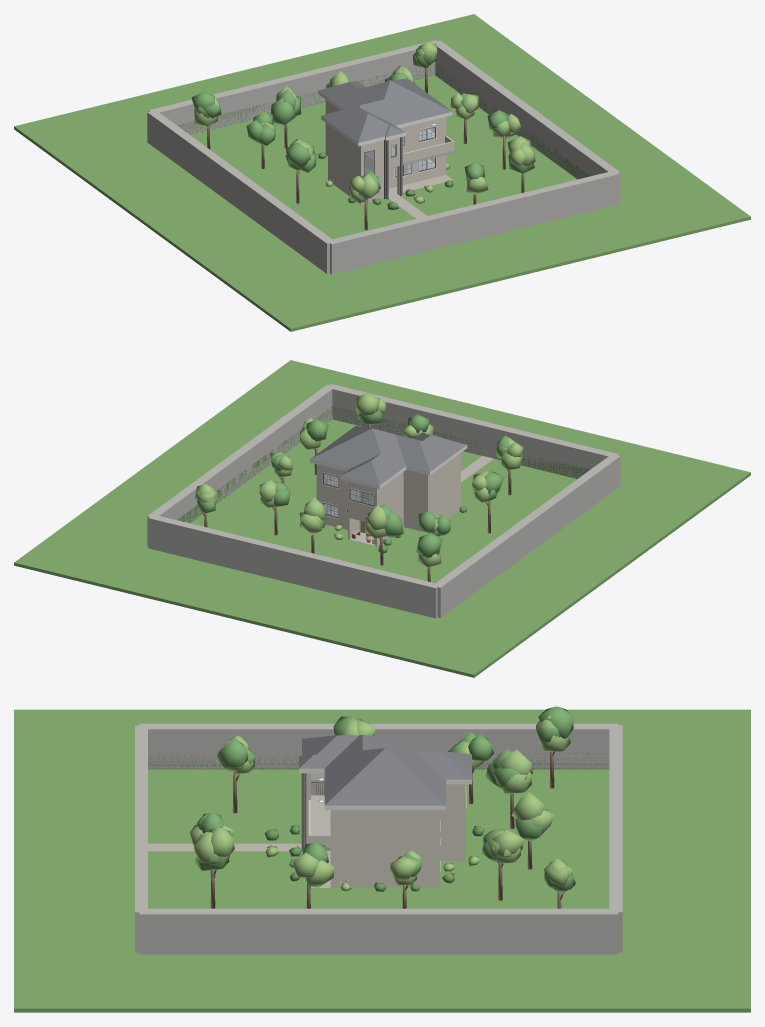
File: CasaVR_Casa.fbx
3 renders of one model, top to bottom at view 1: azimuth 30°, elevation 25°; view 2: azimuth 150°, elevation 25°; view 3: azimuth 270°, elevation 25°, orthographic. The views are drawn at different scales.
Visible parts, largest first — view 1: Terreno, COL_Limite_Sur, COL_Limite_Oeste, COL_Limite_Norte, COL_Limite_Este, Cubierta, Seto_Perimetral, Muro_222178, Muro_183780, Arbol_1_Copa, Arbol_8_Copa, Arbol_9_Copa (+11 smaller); view 2: Terreno, COL_Limite_Norte, COL_Limite_Sur, COL_Limite_Oeste, Cubierta, COL_Limite_Este, Seto_Perimetral, Muro_222178, Muro_221574, Arbol_1_Copa, Muro_183585, Arbol_9_Copa (+10 smaller); view 3: Terreno, COL_Limite_Este, COL_Limite_Oeste, Cubierta, Muro_183884, Muro_165480, COL_Limite_Norte, COL_Limite_Sur, Arbol_1_Copa, Arbol_8_Copa, Arbol_11_Copa, Arbol_2_Copa (+14 smaller).
Part boxes in pixels (bbox=[...]): Terreno: bbox=[14, 14, 750, 331]; COL_Limite_Sur: bbox=[327, 172, 619, 274]; COL_Limite_Oeste: bbox=[147, 110, 335, 273]; COL_Limite_Norte: bbox=[148, 40, 438, 134]; COL_Limite_Este: bbox=[432, 40, 620, 202]; Cubierta: bbox=[318, 78, 452, 146]; Seto_Perimetral: bbox=[177, 63, 590, 179]; Muro_222178: bbox=[328, 125, 362, 204]; Muro_183780: bbox=[391, 117, 446, 155]; Arbol_1_Copa: bbox=[271, 85, 301, 125]; Arbol_8_Copa: bbox=[507, 136, 535, 173]; Arbol_9_Copa: bbox=[285, 139, 316, 172]; Terreno: bbox=[14, 360, 750, 677]; COL_Limite_Norte: bbox=[148, 515, 440, 618]; COL_Limite_Sur: bbox=[328, 384, 619, 478]; COL_Limite_Oeste: bbox=[435, 454, 620, 617]; Cubierta: bbox=[310, 426, 467, 488]; COL_Limite_Este: bbox=[147, 384, 335, 546]; Seto_Perimetral: bbox=[177, 406, 589, 523]; Muro_222178: bbox=[429, 453, 460, 518]; Muro_221574: bbox=[403, 469, 428, 532]; Arbol_1_Copa: bbox=[365, 504, 403, 538]; Muro_183585: bbox=[375, 472, 403, 545]; Arbol_9_Copa: bbox=[472, 471, 504, 504]; Terreno: bbox=[14, 709, 750, 1012]; COL_Limite_Este: bbox=[139, 908, 618, 954]; COL_Limite_Oeste: bbox=[139, 723, 618, 769]; Cubierta: bbox=[299, 735, 471, 810]; Muro_183884: bbox=[333, 810, 439, 847]; Muro_165480: bbox=[330, 847, 437, 887]; COL_Limite_Norte: bbox=[609, 725, 622, 952]; COL_Limite_Sur: bbox=[135, 725, 147, 952]; Arbol_1_Copa: bbox=[485, 748, 532, 793]; Arbol_8_Copa: bbox=[193, 827, 234, 870]; Arbol_11_Copa: bbox=[536, 706, 573, 752]; Arbol_2_Copa: bbox=[511, 792, 554, 841].
Size of the model in its own units: 48 by 9.05 by 50.
